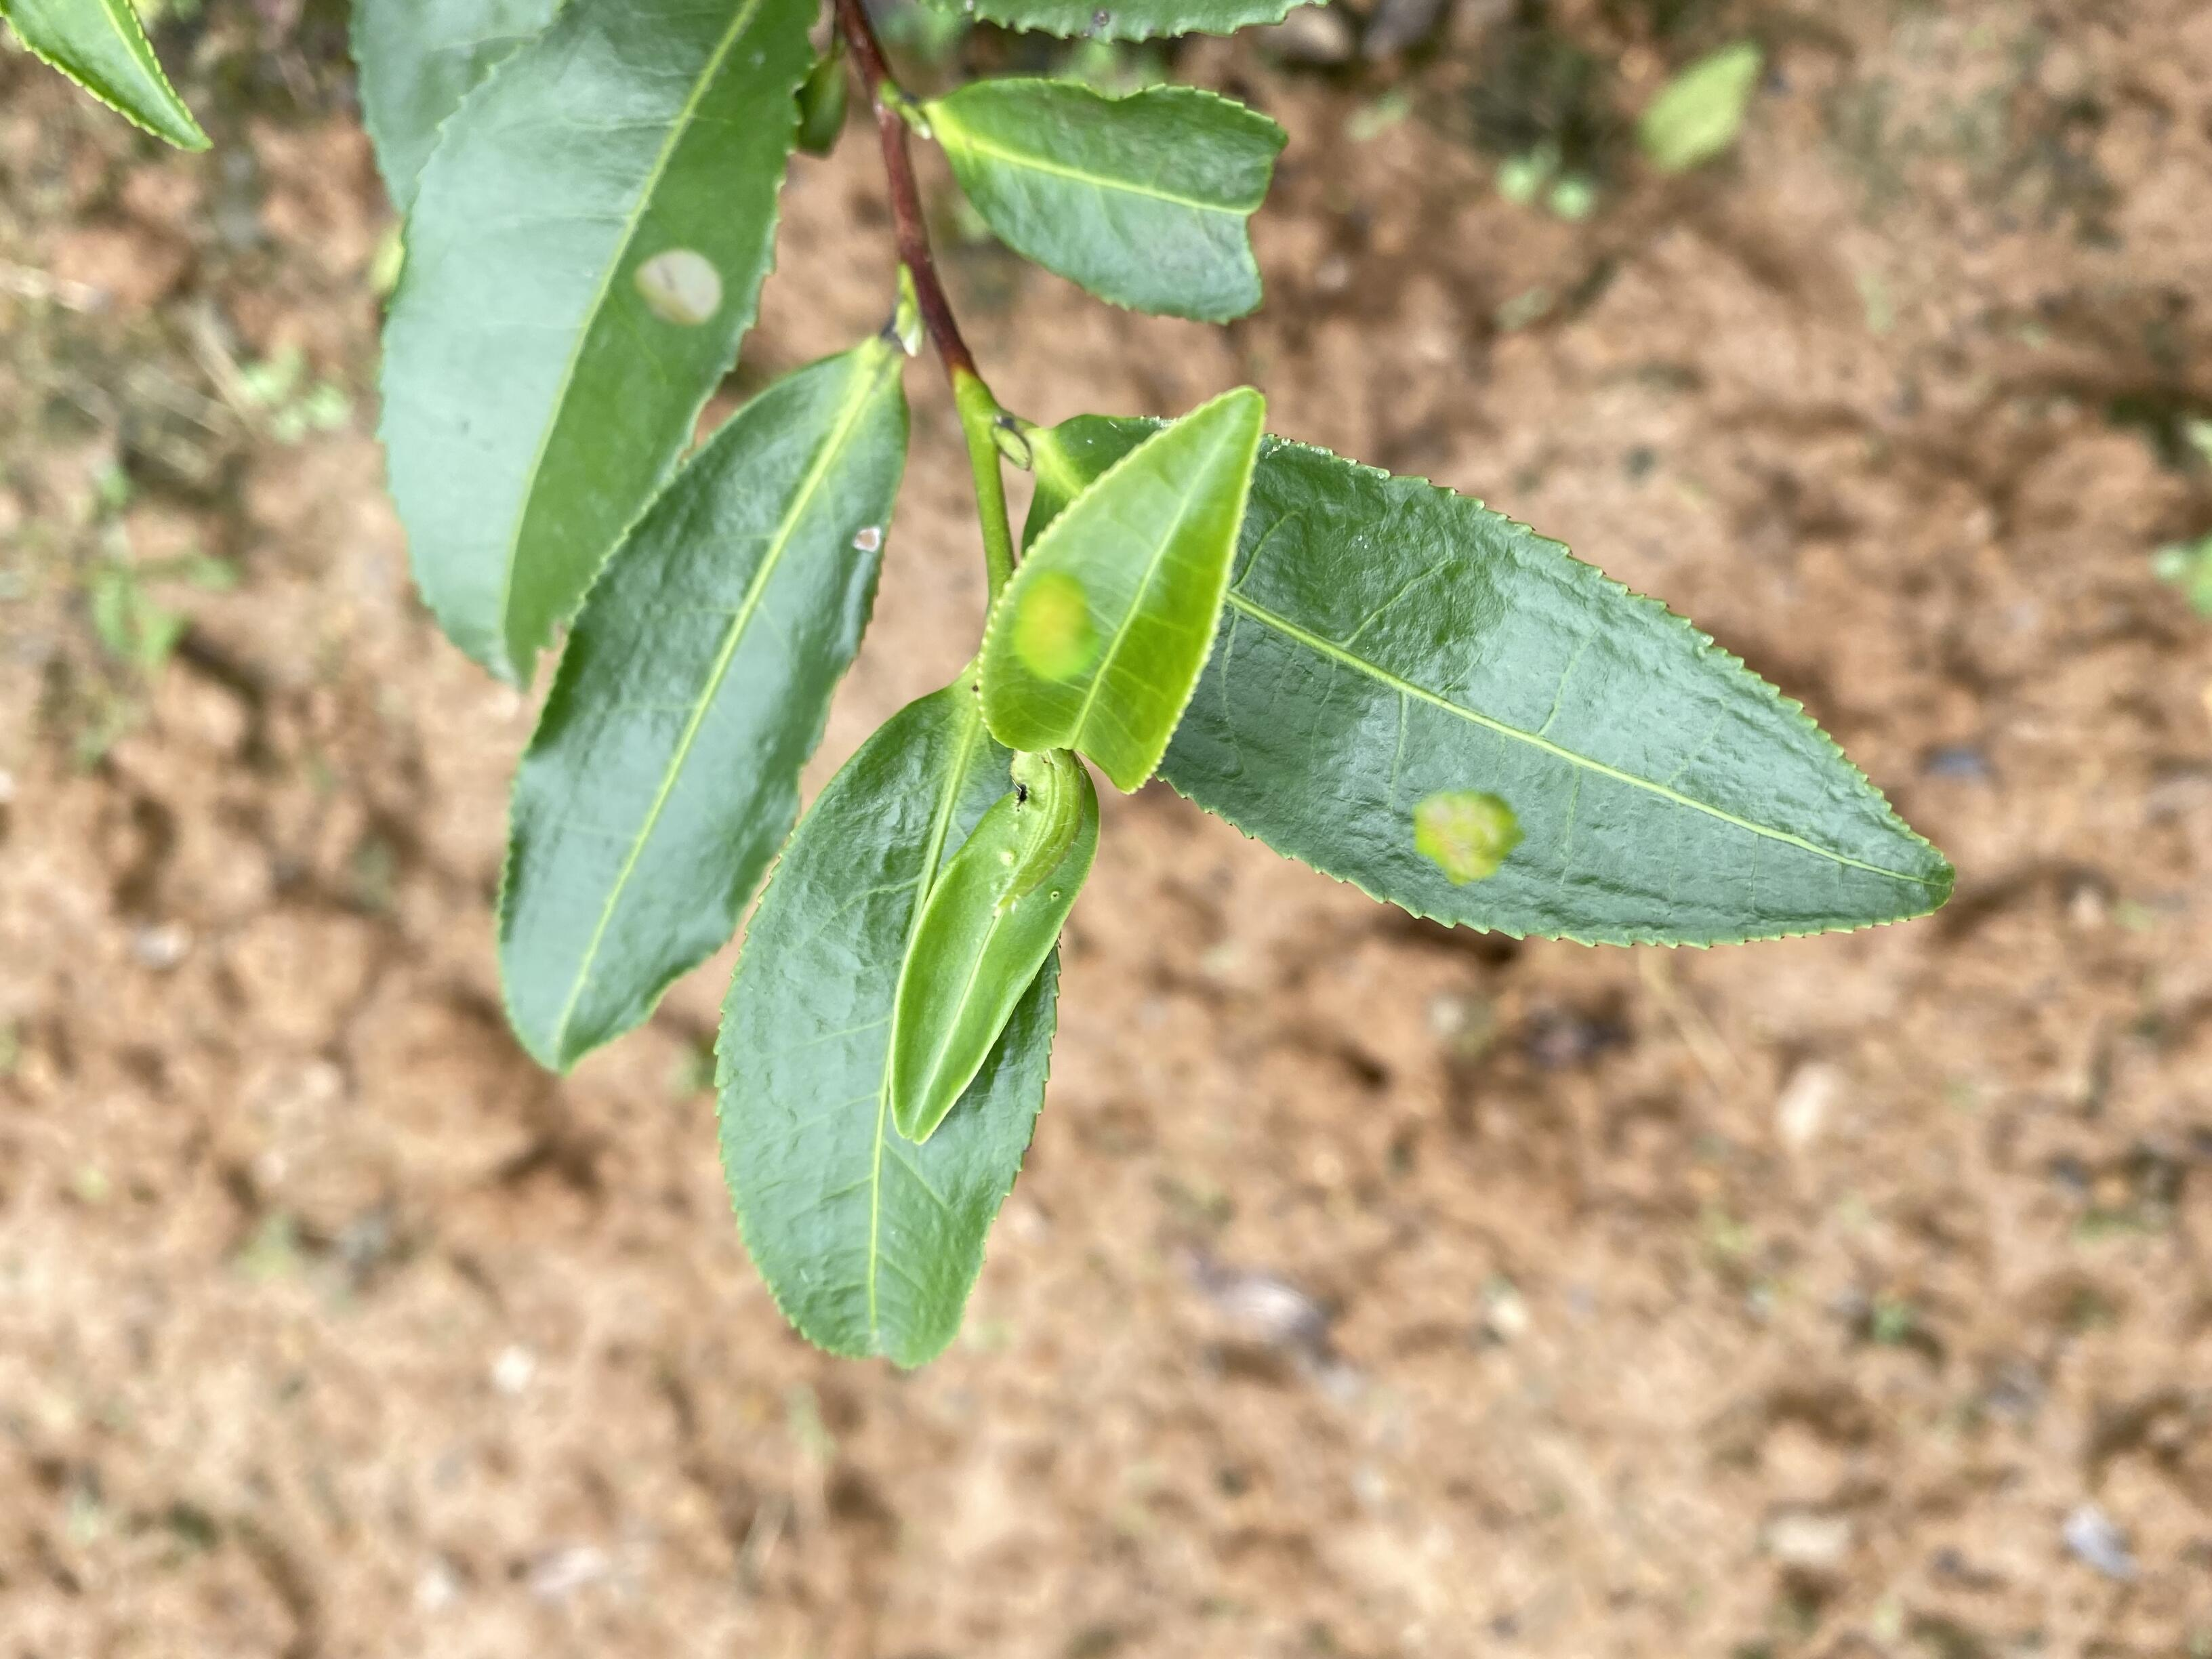chabing_low: (1028, 422, 1956, 953), (376, 5, 822, 699), (975, 387, 1261, 791)
chihuo_high: (923, 70, 1289, 328)
chihuo_low: (498, 347, 913, 1077)
healthy: (712, 678, 1062, 1373)
